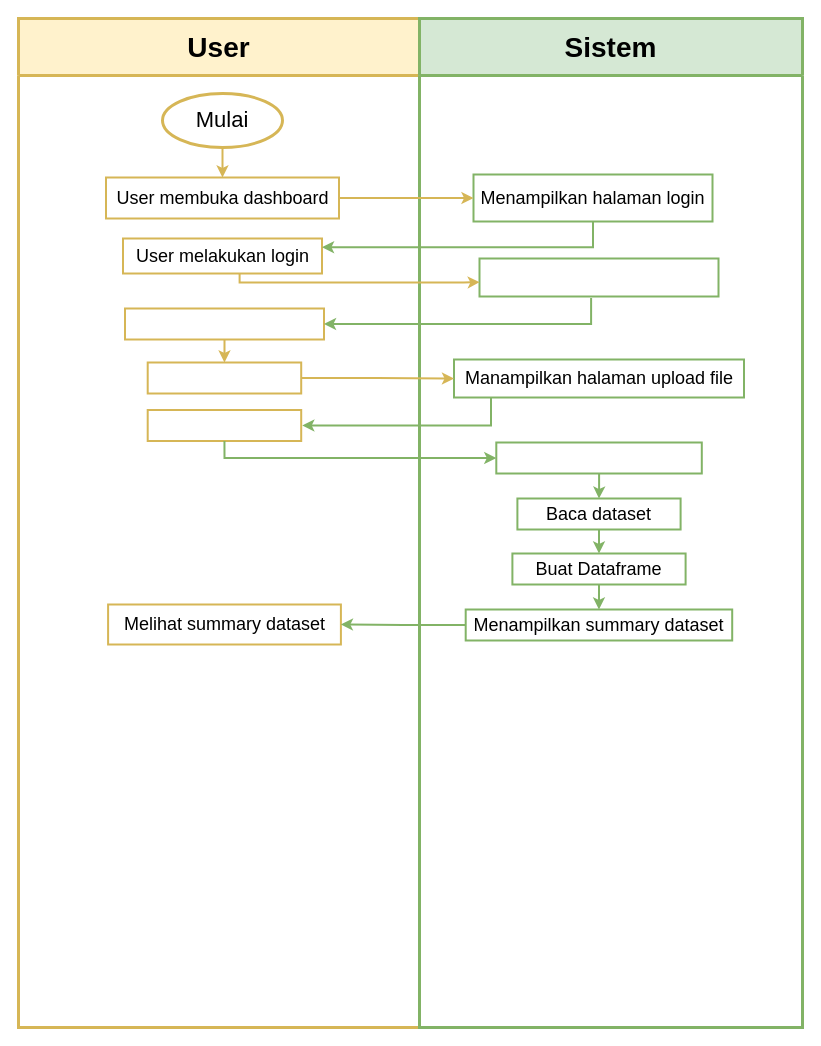
Image size: 821x1046. Some labels were removed from this diagram. The shapes that lost their labels are listed below. From the top down, each one's centre as x and y in pixels, then its label:
At point (598, 277): "Menampilkan welcome page".
At point (224, 323): "Melihat welcome page".
At point (224, 377): "Klik mulai analisis".
At point (224, 425): "Upload dataset".
At point (598, 457): "Terima file dan validasi".
